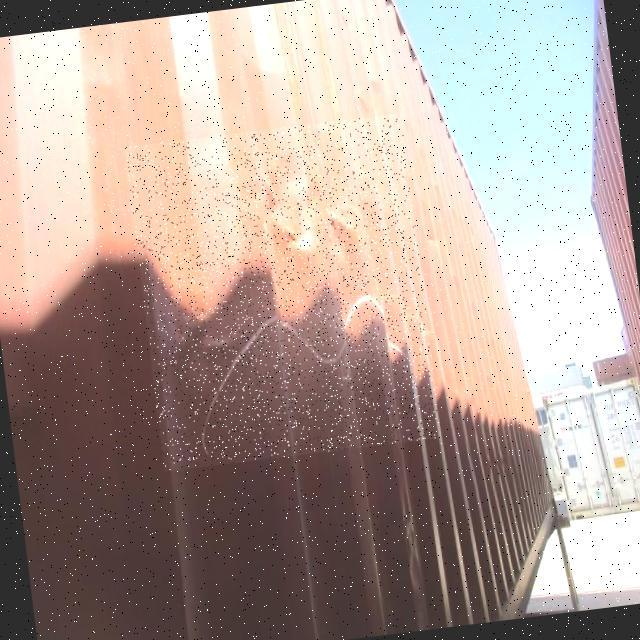Dent: (125, 113, 442, 472)
